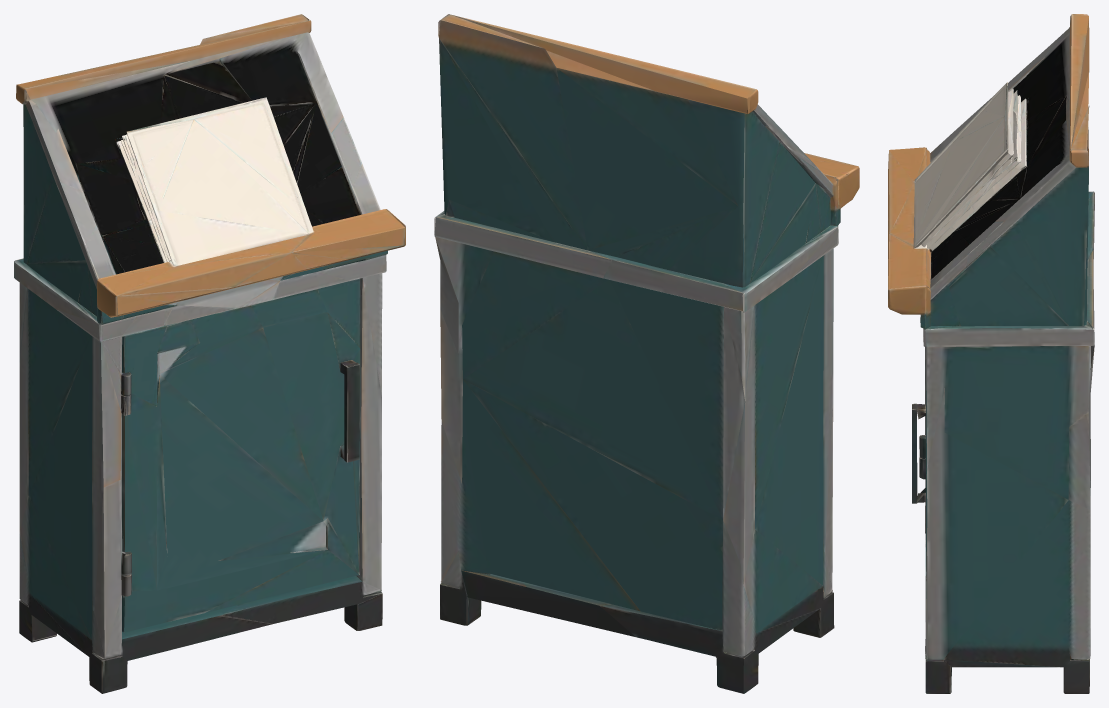
Rendered from lectern.glb.
3 views of the same model, side by side, from view 1: azimuth 30°, elevation 25°; view 2: azimuth 150°, elevation 25°; view 3: azimuth 270°, elevation 25° (orthographic). The views are drawn at different scales.
Parts seen in each view (by area): view 1: Mesh_0; view 2: Mesh_0; view 3: Mesh_0.
Boxes of the visible parts, x1,y1,x2,y2 form: Mesh_0: (14, 14, 405, 693); Mesh_0: (434, 14, 859, 693); Mesh_0: (888, 14, 1094, 693).
Size of the model in its own units: 0.55 by 0.9968 by 0.3435.
Materials: 1 (1 with a texture image).
